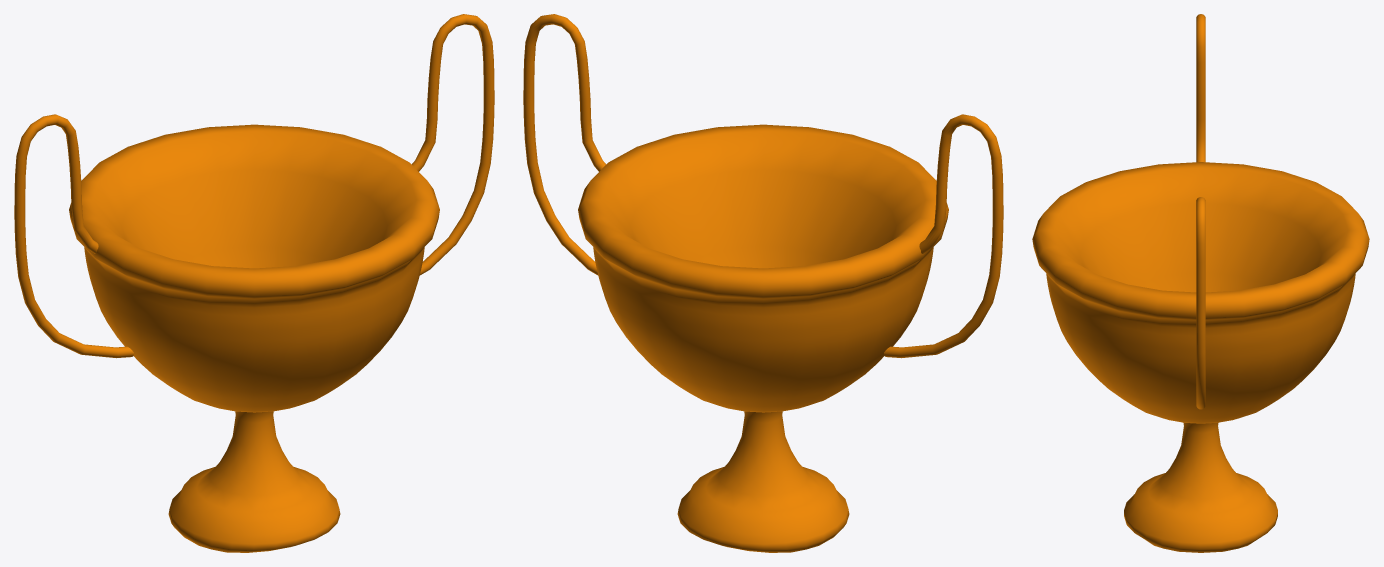
Rendered from vasija2.fbx.
The picture shows the model from 3 angles, left to right: view 1: azimuth 30°, elevation 25°; view 2: azimuth 150°, elevation 25°; view 3: azimuth 270°, elevation 25°; orthographic projection. The views are drawn at different scales.
Parts seen in each view (by area): view 1: Vasija.4; view 2: Vasija.4; view 3: Vasija.4.
Boxes of the visible parts, left/top/right/bottom form: Vasija.4: left=14, top=14, right=494, bottom=552; Vasija.4: left=523, top=14, right=1003, bottom=552; Vasija.4: left=1032, top=14, right=1369, bottom=552.
Bounding box in the file's own units: 0.5675 × 0.519 × 0.3809.
